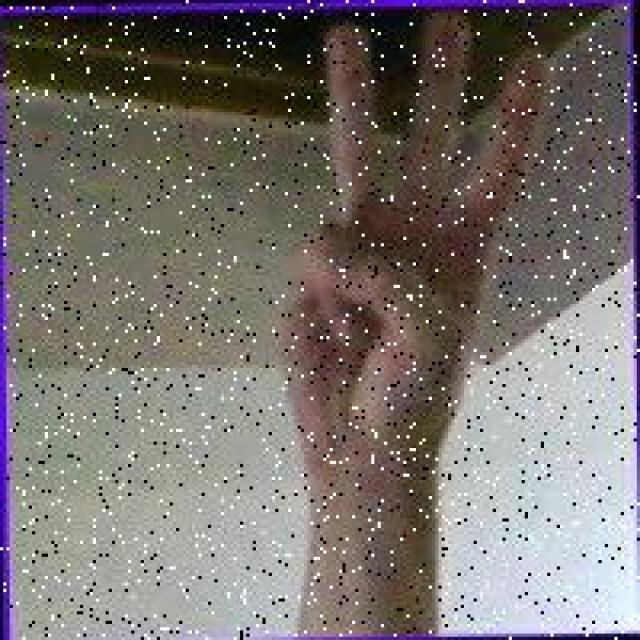W: (272, 6, 563, 464)
